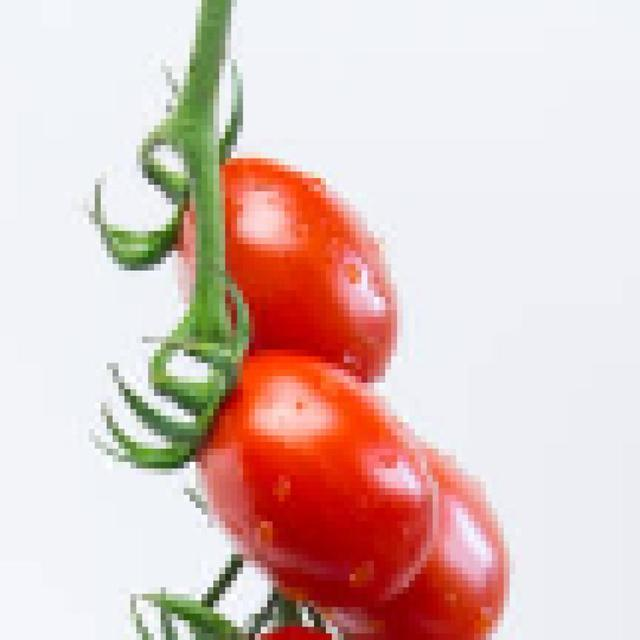Healthy Fruit: (126, 98, 277, 371)
